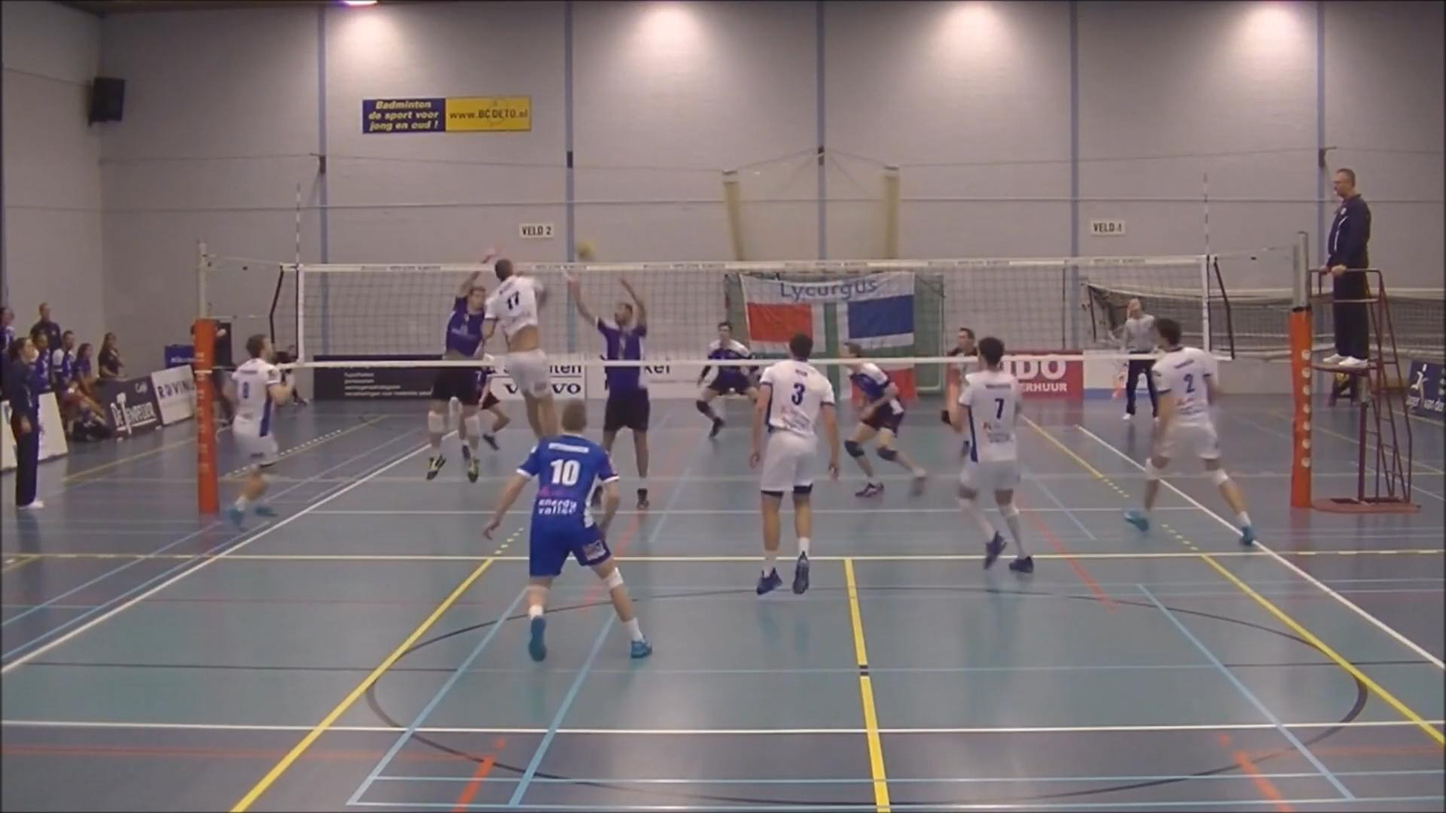Attack: (466, 242, 580, 455)
Block: (560, 257, 664, 514), (403, 228, 500, 482)
Player: (484, 400, 651, 660), (1125, 318, 1255, 544), (749, 333, 839, 594), (951, 336, 1033, 573), (224, 334, 291, 527), (844, 342, 926, 497), (696, 321, 758, 438), (941, 327, 976, 423)
